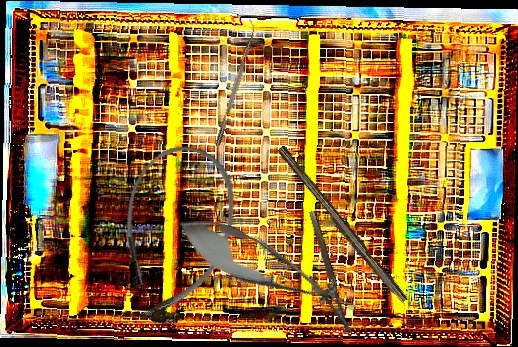Cannula: (98, 133, 250, 338)
Chopper: (209, 18, 260, 147)
Micro Scissor: (168, 203, 367, 331)
Needle Holder: (291, 209, 353, 341)
Scalpel Handle: (272, 145, 411, 306)
